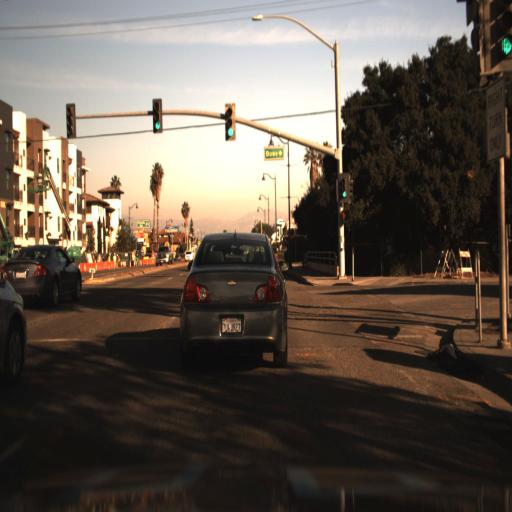car: (167, 221, 289, 384), (17, 223, 89, 319), (4, 236, 84, 314), (153, 243, 178, 268), (154, 241, 173, 267)
trafficLight: (220, 92, 236, 143), (59, 94, 75, 137), (147, 87, 161, 132)
trafficLight-Green: (476, 0, 511, 76), (338, 160, 359, 209), (149, 93, 162, 136), (340, 172, 351, 203)
